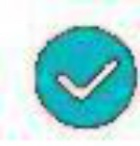CheckBox: (1, 1, 139, 145)
